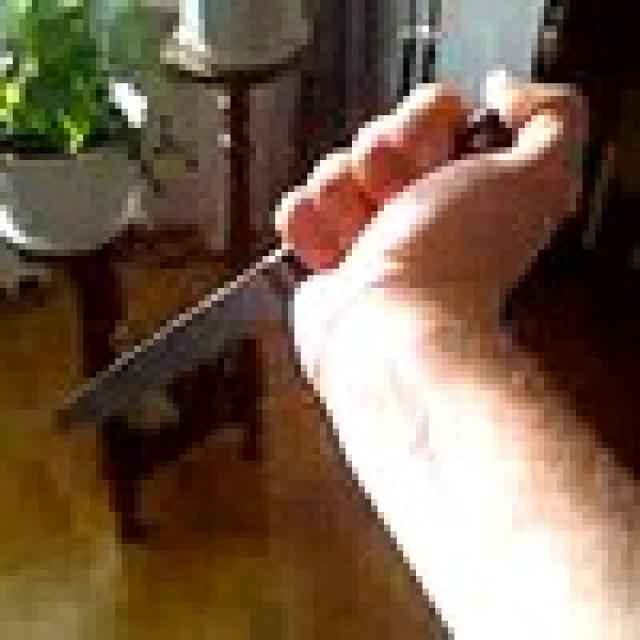Knife_Handle: (54, 67, 586, 426)
